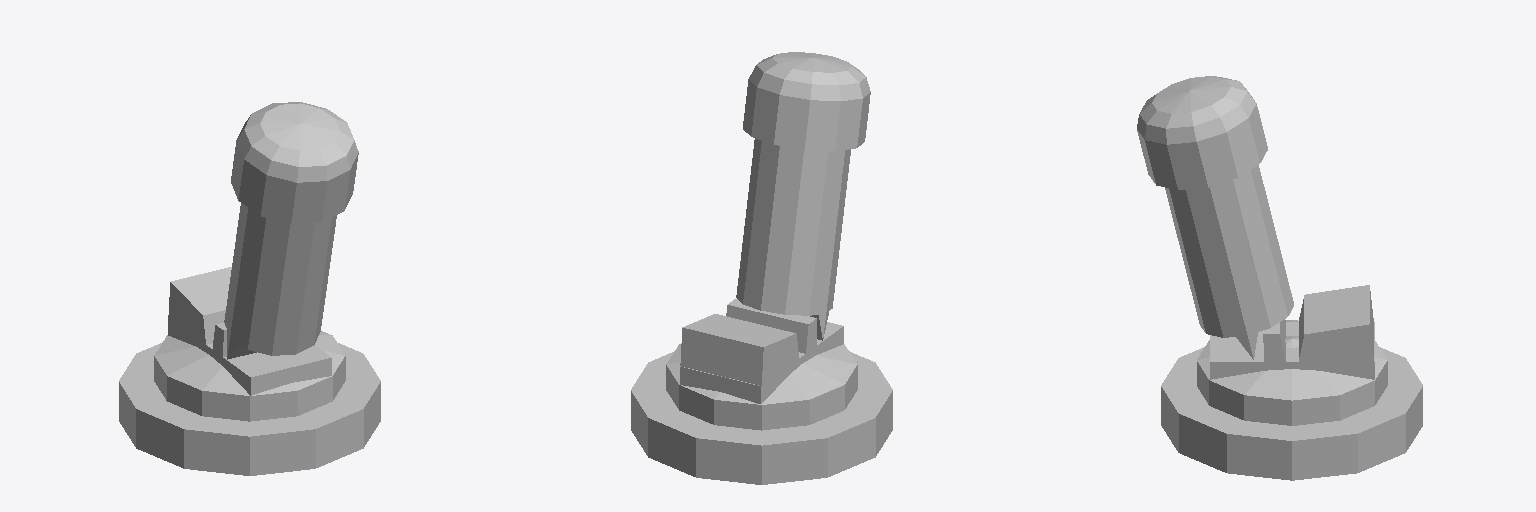
Rendered from Switch_Smoke - Off.obj.
The picture shows the model from 3 angles: view 1: azimuth 30°, elevation 25°; view 2: azimuth 150°, elevation 25°; view 3: azimuth 270°, elevation 25°; orthographic projection.
Parts seen in each view (by area): view 1: Switch, LockNut, SwitchBase, Slider, LockTine; view 2: Switch, LockNut, SwitchBase, LockTine, Slider; view 3: Switch, LockNut, SwitchBase, LockTine, Slider.
Part boxes in pixels (x1,y1,x2,y2): Switch: (224,102,358,359); LockNut: (119,342,380,475); SwitchBase: (154,331,345,421); Slider: (168,317,331,395); LockTine: (168,267,231,356); Switch: (736,52,870,340); LockNut: (631,351,892,484); SwitchBase: (666,343,857,430); LockTine: (680,299,816,386); Slider: (680,322,843,403); Switch: (1137,76,1293,359); LockNut: (1161,347,1422,480); SwitchBase: (1197,320,1387,425); LockTine: (1263,285,1373,362); Slider: (1210,322,1374,379).
Bounding box in the file's own units: 6 × 8.54 × 6.56.